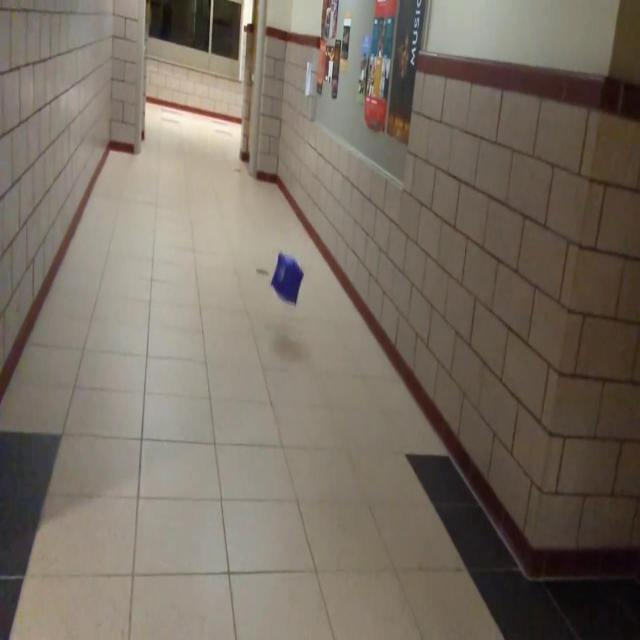frc_cube: (271, 252, 303, 306)
